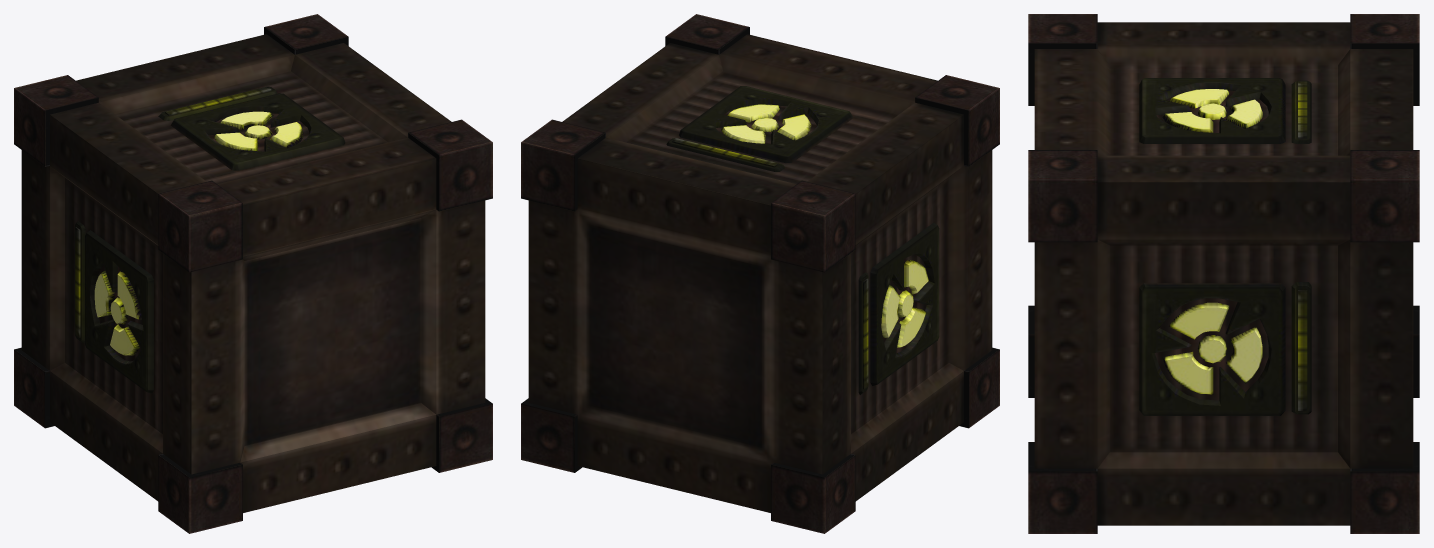
The model's file is b_exbox2.obj.
3 views of the same model, side by side, from view 1: azimuth 30°, elevation 25°; view 2: azimuth 150°, elevation 25°; view 3: azimuth 270°, elevation 25° (orthographic). The views are drawn at different scales.
Size of the model in its own units: 38.6 by 38.6 by 38.6.
Materials: 1 (1 with a texture image).
